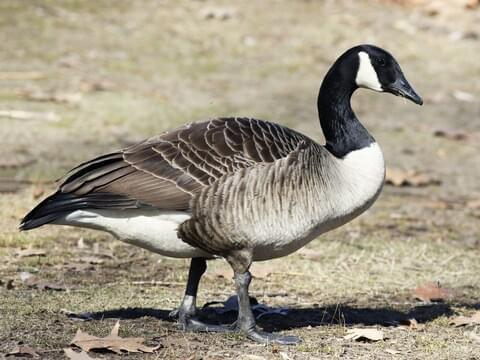Canadian-Goose: (21, 42, 427, 343)
